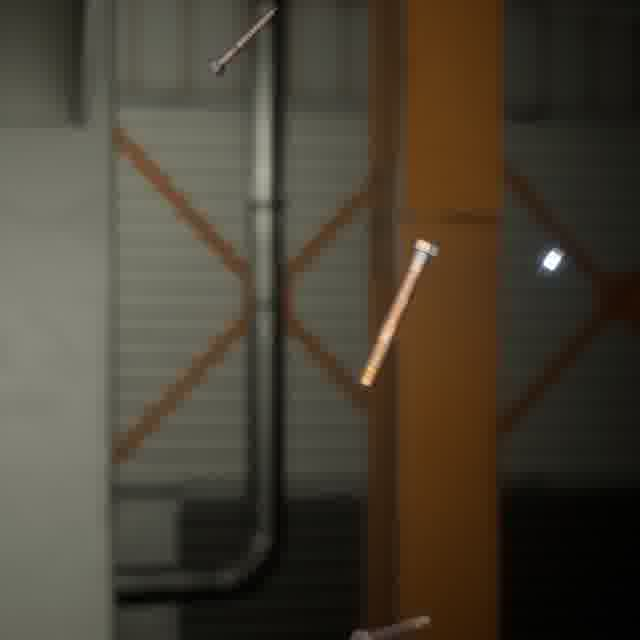bolt: (354, 233, 443, 391), (203, 3, 282, 81), (345, 610, 434, 640)
nut: (532, 242, 569, 283)
